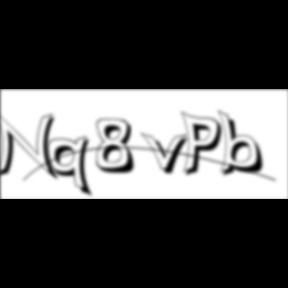8: (96, 117, 142, 176)
N: (0, 109, 64, 183)
P: (182, 110, 228, 180)
b: (217, 109, 270, 179)
q: (48, 135, 97, 200)
v: (141, 131, 195, 177)
